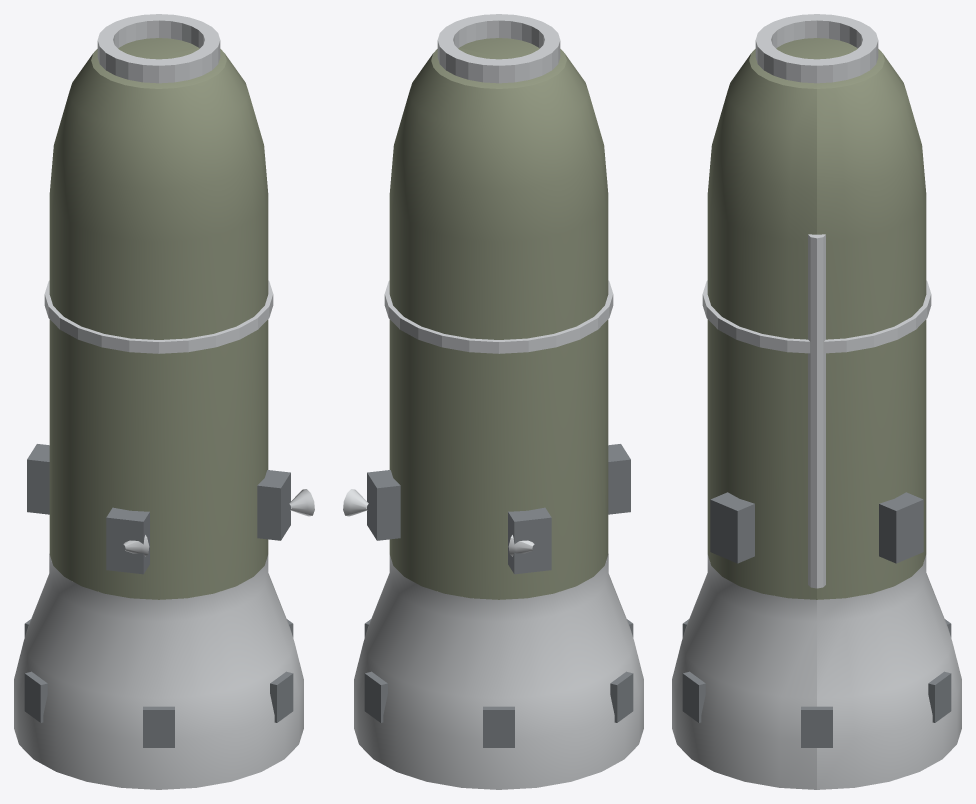
The model's file is cold-war-missile-silo-and-command-bunker-missile-secon-d54ab27c__15651.glb.
3 views of the same model, side by side, from view 1: azimuth 30°, elevation 25°; view 2: azimuth 150°, elevation 25°; view 3: azimuth 270°, elevation 25° (orthographic).
Parts seen in each view (by area): view 1: missile-second-stage; view 2: missile-second-stage; view 3: missile-second-stage.
Part boxes in pixels (left/top/right/bottom): missile-second-stage: left=14, top=14, right=314, bottom=789; missile-second-stage: left=343, top=14, right=643, bottom=789; missile-second-stage: left=672, top=14, right=961, bottom=789.
Bounding box in the file's own units: 1.81 × 4.72 × 1.8.
